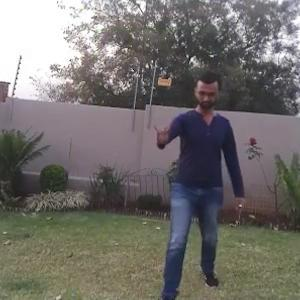takeoff-hand: (150, 118, 173, 148)
